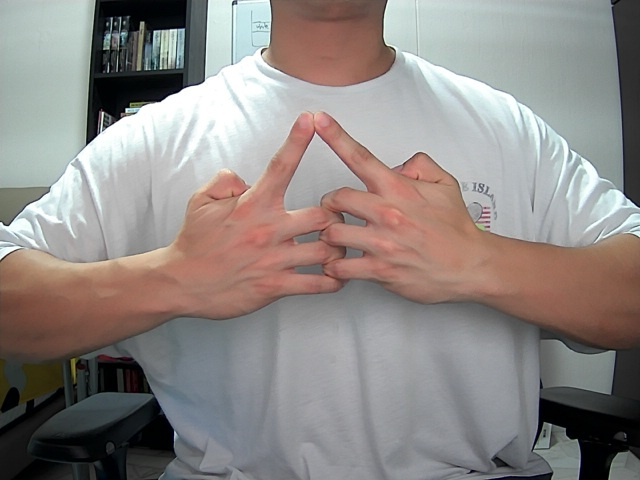Horse: (176, 100, 487, 344)
